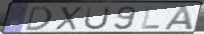9: (113, 5, 138, 31)
A: (162, 5, 195, 32)
D: (23, 5, 54, 32)
L: (140, 6, 162, 30)
U: (82, 6, 113, 31)
X: (54, 6, 84, 31)
